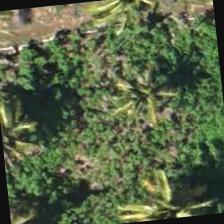Kelapa_Sawit: (91, 55, 190, 154), (121, 161, 217, 222)
